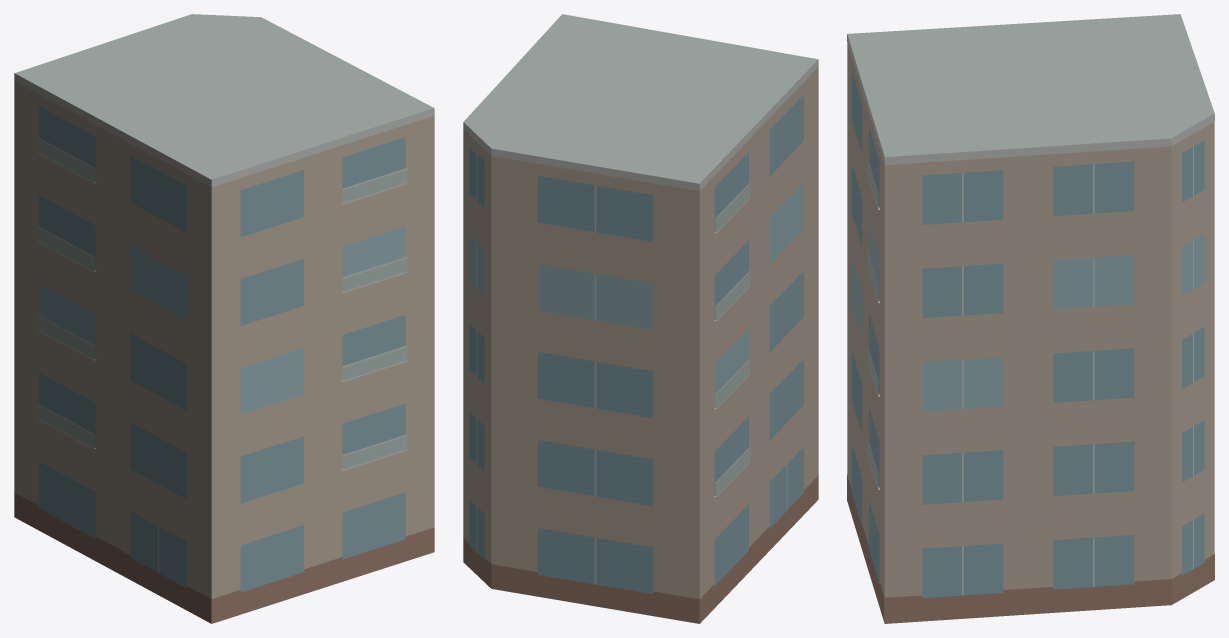
The model's file is survey-upis-32733647.glb.
3 views of the same model, side by side, from view 1: azimuth 30°, elevation 25°; view 2: azimuth 150°, elevation 25°; view 3: azimuth 270°, elevation 25° (orthographic). The views are drawn at different scales.
Parts seen in each view (by area): view 1: survey-upis-32733647.tmp; view 2: survey-upis-32733647.tmp; view 3: survey-upis-32733647.tmp.
Part boxes in pixels (<box>): survey-upis-32733647.tmp: <box>14,14,434,623</box>; survey-upis-32733647.tmp: <box>463,14,818,623</box>; survey-upis-32733647.tmp: <box>847,14,1214,623</box>.
Size of the model in its own units: 9.46 by 14.35 by 10.25.
